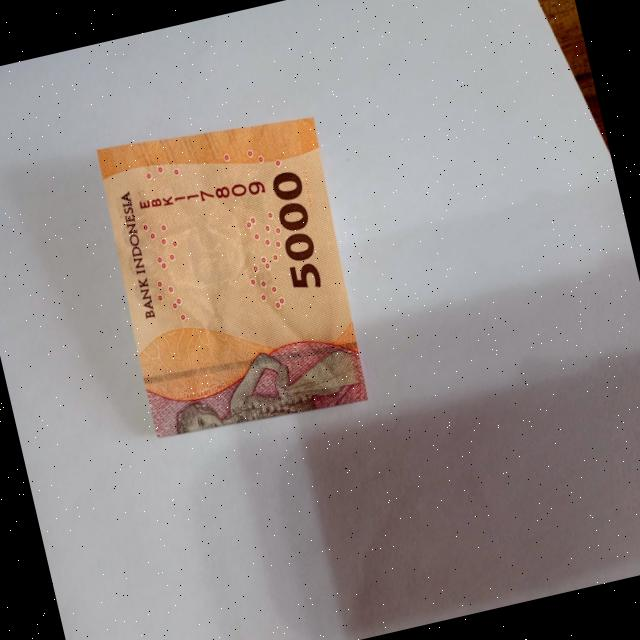5K: (75, 90, 386, 470)
